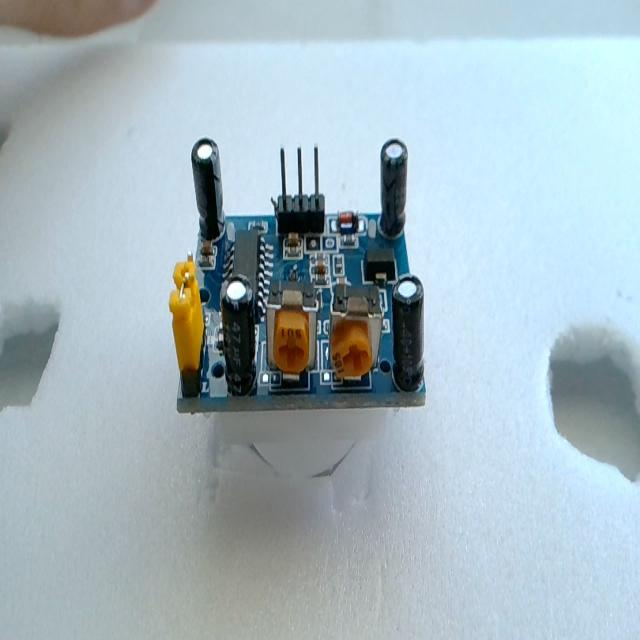Electrolytic capacitor: (220, 276, 258, 396), (391, 275, 425, 392), (190, 135, 224, 242), (379, 136, 409, 240)
pinheader: (270, 142, 324, 244)
